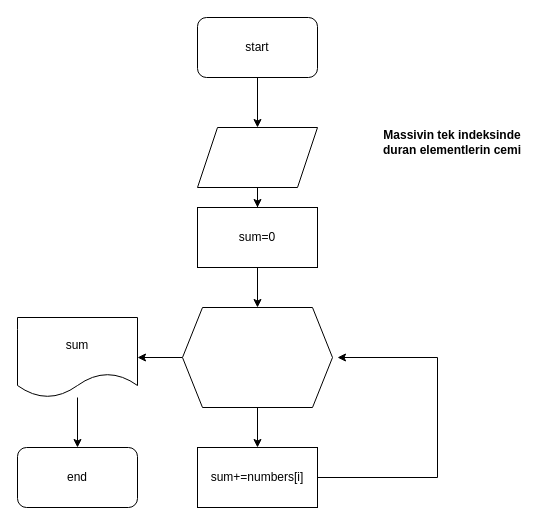
Image size: 555x525. Some labels were removed from this diagram. The shapes that lost their labels are listed below. From the top down, each one's centre as x and y in pixels, then its label:
[257,157]: numbers
[257,357]: i=1; i<numbers.length; i+=2
